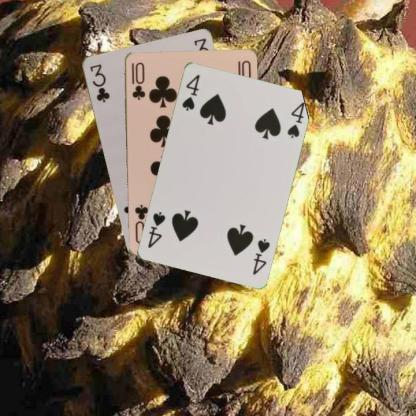10c: (129, 59, 147, 101)
3c: (86, 61, 112, 104)
4s: (179, 71, 201, 112), (250, 235, 271, 276)
